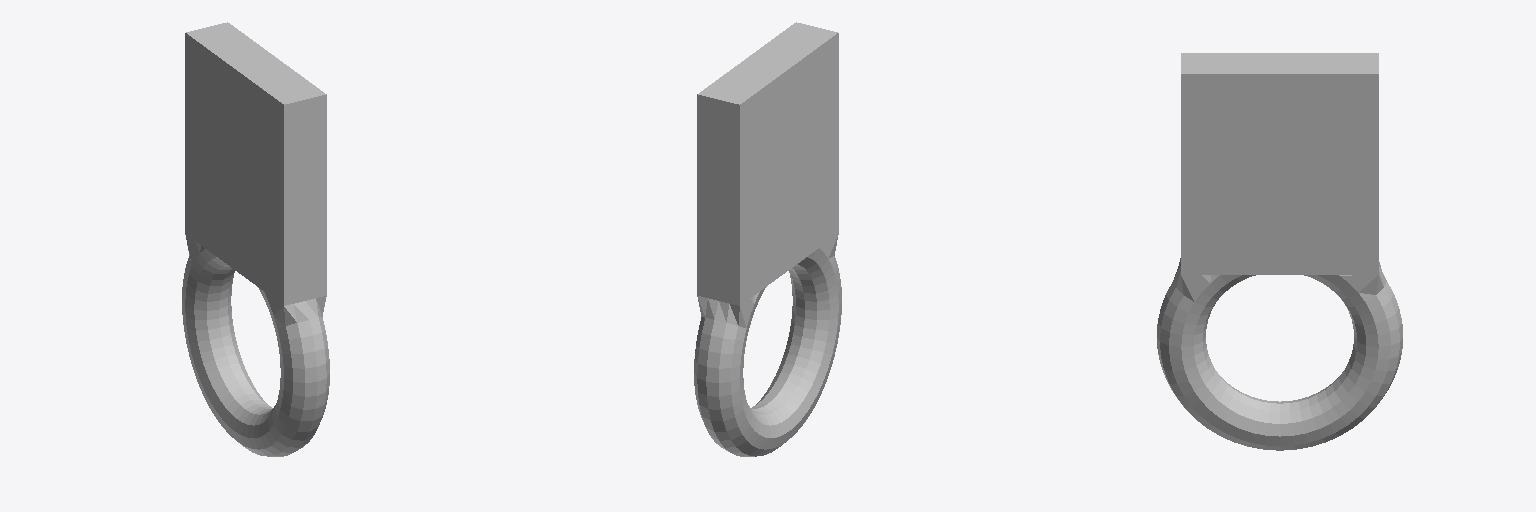
File: circlehold.obj
3 views of the same model, side by side, from view 1: azimuth 30°, elevation 25°; view 2: azimuth 150°, elevation 25°; view 3: azimuth 270°, elevation 25° (orthographic).
Visible parts, largest first — view 1: Torus; view 2: Torus; view 3: Torus.
Boxes of the visible parts, x1,y1,x2,y2 form: Torus: [182, 22, 329, 456]; Torus: [694, 22, 841, 456]; Torus: [1157, 53, 1402, 450].
Size of the model in its own units: 0.5 by 4.3 by 2.5.